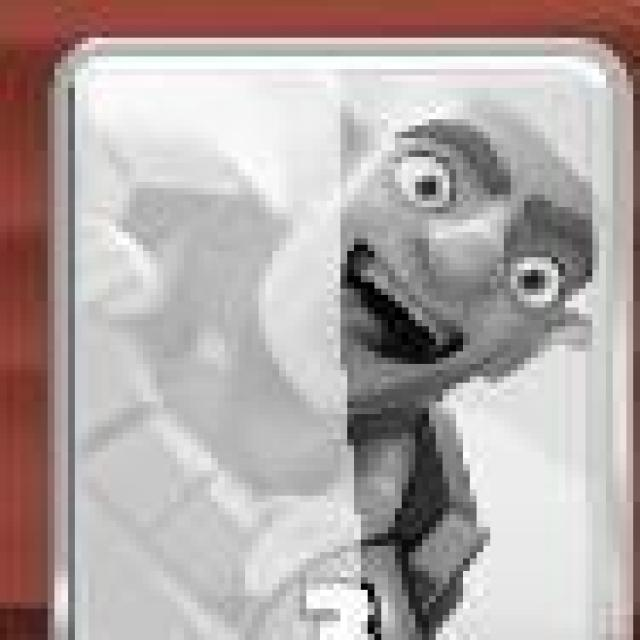Goblin_Barrel: (52, 39, 638, 640)
